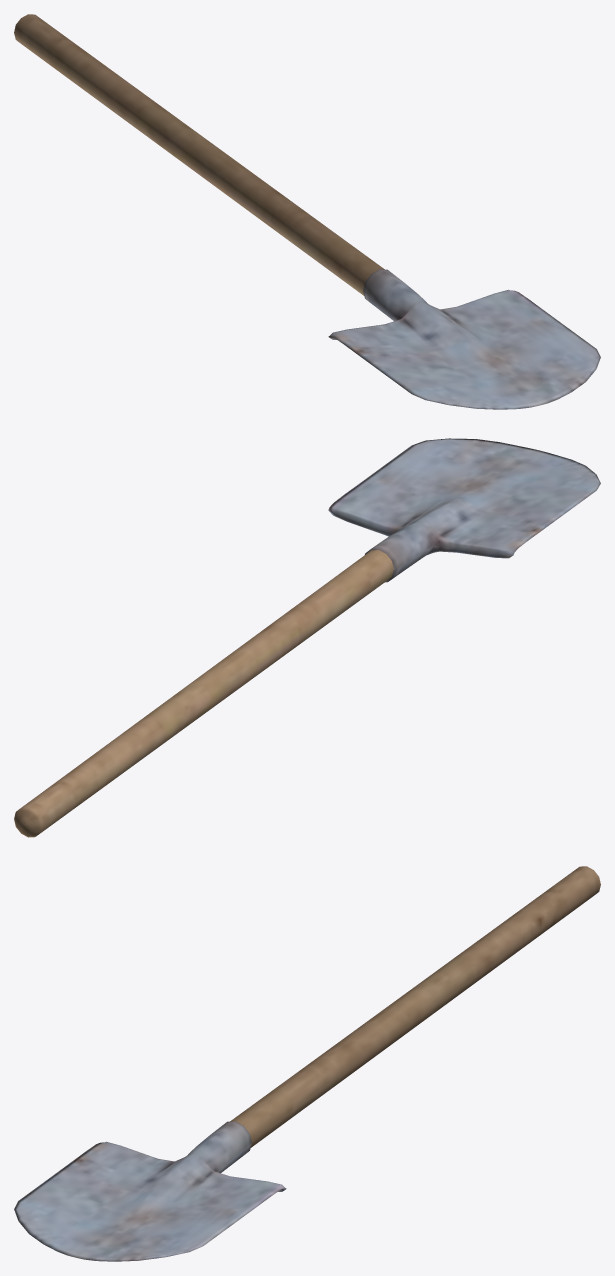
The model's file is old_shovel.glb.
The picture shows the model from 3 angles, top to bottom: view 1: azimuth 30°, elevation 25°; view 2: azimuth 150°, elevation 25°; view 3: azimuth 330°, elevation 25°; orthographic projection.
Visible parts, largest first — view 1: Cylinder001; view 2: Cylinder001; view 3: Cylinder001.
Part boxes in pixels (box(x1,y1,x2,y2)): Cylinder001: box(14, 14, 600, 409); Cylinder001: box(14, 438, 600, 837); Cylinder001: box(14, 866, 600, 1261).
Size of the model in its own units: 0.3803 by 0.0691 by 1.83.
1 material, 1 textured.
